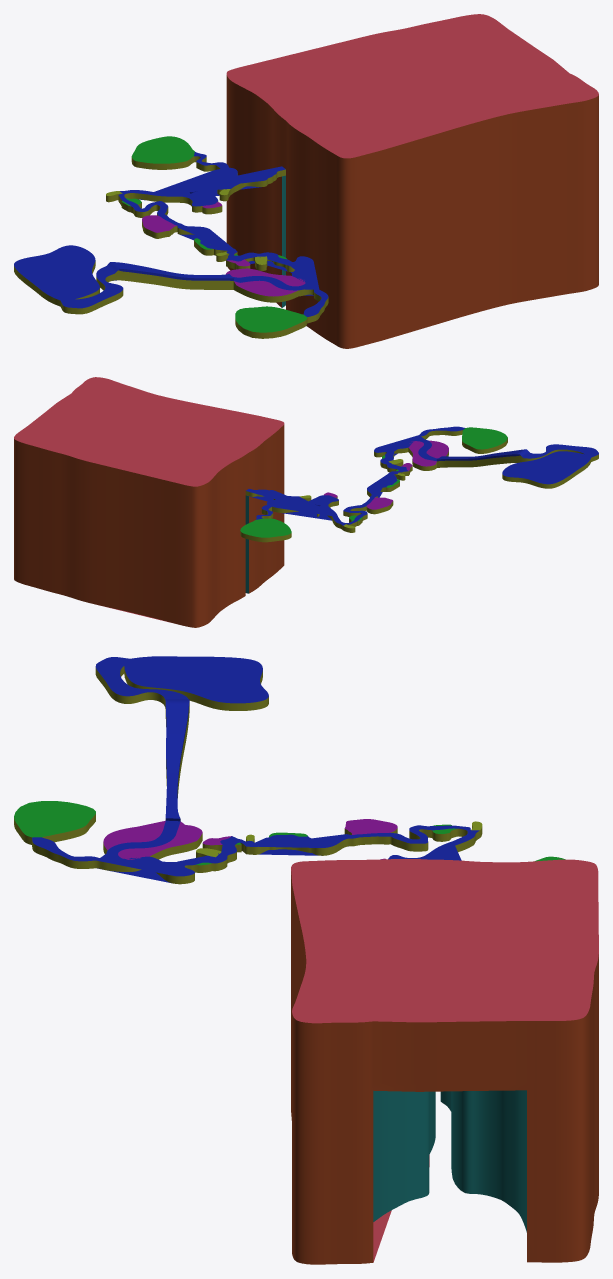
File: Dungeon-Floor-Layout-V7-World-Whitebox.fbx
3 renders of one model, top to bottom at view 1: azimuth 30°, elevation 25°; view 2: azimuth 150°, elevation 25°; view 3: azimuth 270°, elevation 25°, orthographic. The views are drawn at different scales.
Visible parts, largest first — view 1: Dungeon Floor Layout V2 3D; view 2: Dungeon Floor Layout V2 3D; view 3: Dungeon Floor Layout V2 3D.
Part boxes in pixels (bbox=[...]): Dungeon Floor Layout V2 3D: bbox=[14, 14, 598, 348]; Dungeon Floor Layout V2 3D: bbox=[14, 377, 598, 627]; Dungeon Floor Layout V2 3D: bbox=[14, 656, 598, 1264].
Bounding box in the file's own units: 36704 × 10907 × 23950.
